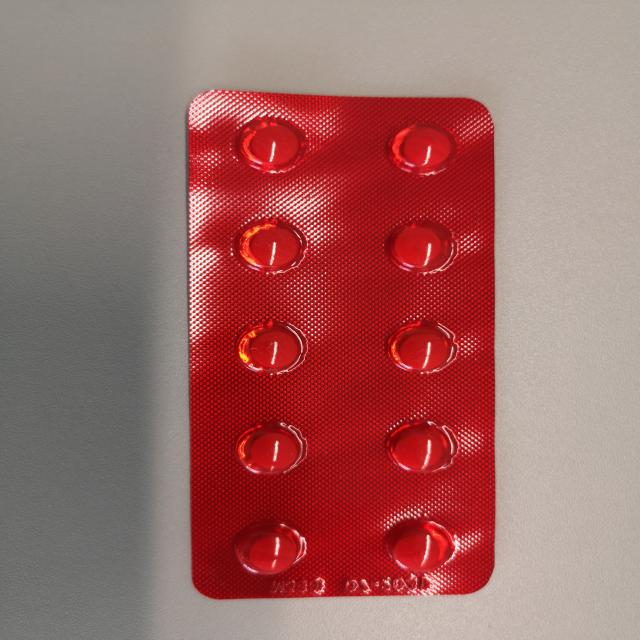Pill: (224, 419, 314, 481), (226, 111, 307, 179), (226, 215, 310, 278), (381, 514, 460, 580), (381, 118, 462, 182), (232, 321, 316, 381), (230, 519, 308, 581), (381, 218, 458, 277), (383, 321, 460, 379), (383, 418, 454, 480)
